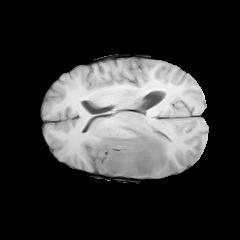glioma: (96, 125, 167, 177)
